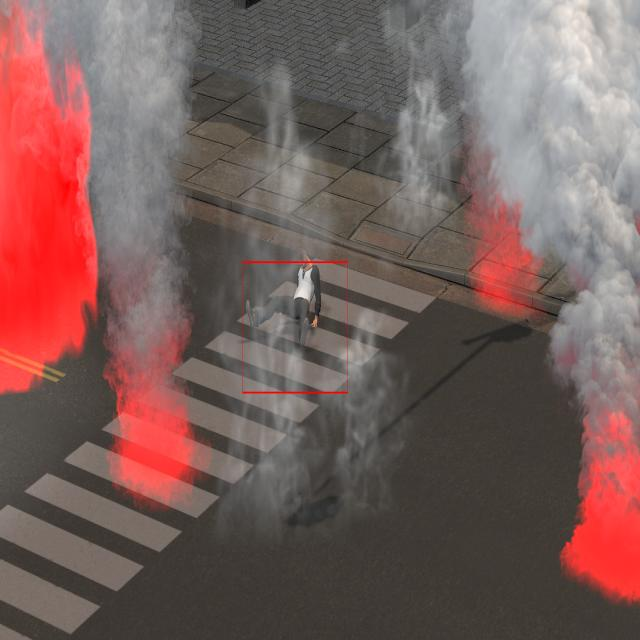Human: (242, 240, 324, 354)
